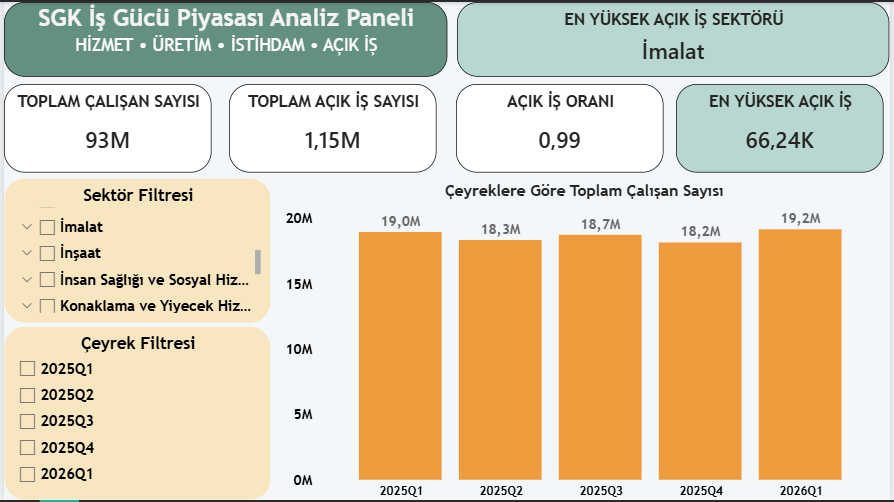

This screenshot's page, from the dashboard's own definition file:
{"tool":"powerbi","page":{"name":"Page 1","canvas":[1280,720],"ordinal":0},"visuals":[{"type":"cardVisual","title":"TOPLAM ÇALIŞAN SAYISI","fields":{"Data":["Sum(QUARTERLY_CORE_METRICS.EMPLOYEE_COUNT)"]},"box":[0,118,300,128],"z":0},{"type":"cardVisual","title":"TOPLAM AÇIK İŞ SAYISI","fields":{"Data":["Sum(QUARTERLY_CORE_METRICS.OPEN_JOB_COUNT)"]},"box":[326,118,300,128],"z":1000},{"type":"cardVisual","title":"AÇIK İŞ ORANI","fields":{"Data":["Avg(QUARTERLY_CORE_METRICS.OPEN_JOB_RATE_PCT)"]},"box":[654,118,300,128],"z":2000},{"type":"cardVisual","title":"EN YÜKSEK AÇIK İŞ SEKTÖRÜ","fields":{"Data":["QUARTERLY_CORE_METRICS.en yuksek acik is sektoru"]},"box":[654.7,0,625,107.8],"z":3000},{"type":"slicer","title":"Sektör Filtresi","fields":{"Values":["SECTORS.SECTOR_NAME","QUARTERLY_CORE_METRICS.OPEN_JOB_RATE_PCT"]},"box":[0,254.5,386,209.6],"z":4000},{"type":"slicer","title":"Çeyrek Filtresi","fields":{"Values":["PERIODS.PERIOD_LABEL"]},"box":[0,468.8,385.9,251.6],"z":5000},{"type":"cardVisual","title":"EN YÜKSEK AÇIK İŞ","fields":{"Data":["QUARTERLY_CORE_METRICS.en yuksek acik is orani"]},"box":[972,118,300,128],"z":6000},{"type":"clusteredColumnChart","title":"Çeyreklere Göre Toplam Çalışan Sayısı","fields":{"Category":["PERIODS.PERIOD_LABEL"],"Y":["Sum(QUARTERLY_CORE_METRICS.EMPLOYEE_COUNT)"]},"box":[406.2,259.4,865.6,460.9],"z":7000},{"type":"textbox","title":"SGK İş Gücü Piyasası Analiz Paneli","box":[0,0,640.6,107.8],"z":8000}]}

Visuals, with their boxes in screenshot pixels (x1, y1, x2, y2), scaled from the page's 1280x720 canvas onto the 894x502 screenshot:
"TOPLAM ÇALIŞAN SAYISI" cardVisual: (x1=0, y1=82, x2=210, y2=172)
"TOPLAM AÇIK İŞ SAYISI" cardVisual: (x1=228, y1=82, x2=437, y2=172)
"AÇIK İŞ ORANI" cardVisual: (x1=457, y1=82, x2=666, y2=172)
"EN YÜKSEK AÇIK İŞ SEKTÖRÜ" cardVisual: (x1=457, y1=0, x2=893, y2=75)
"Sektör Filtresi" slicer: (x1=0, y1=177, x2=270, y2=324)
"Çeyrek Filtresi" slicer: (x1=0, y1=327, x2=270, y2=501)
"EN YÜKSEK AÇIK İŞ" cardVisual: (x1=679, y1=82, x2=888, y2=172)
"Çeyreklere Göre Toplam Çalışan Sayısı" clusteredColumnChart: (x1=284, y1=181, x2=888, y2=501)
"SGK İş Gücü Piyasası Analiz Paneli" textbox: (x1=0, y1=0, x2=447, y2=75)
